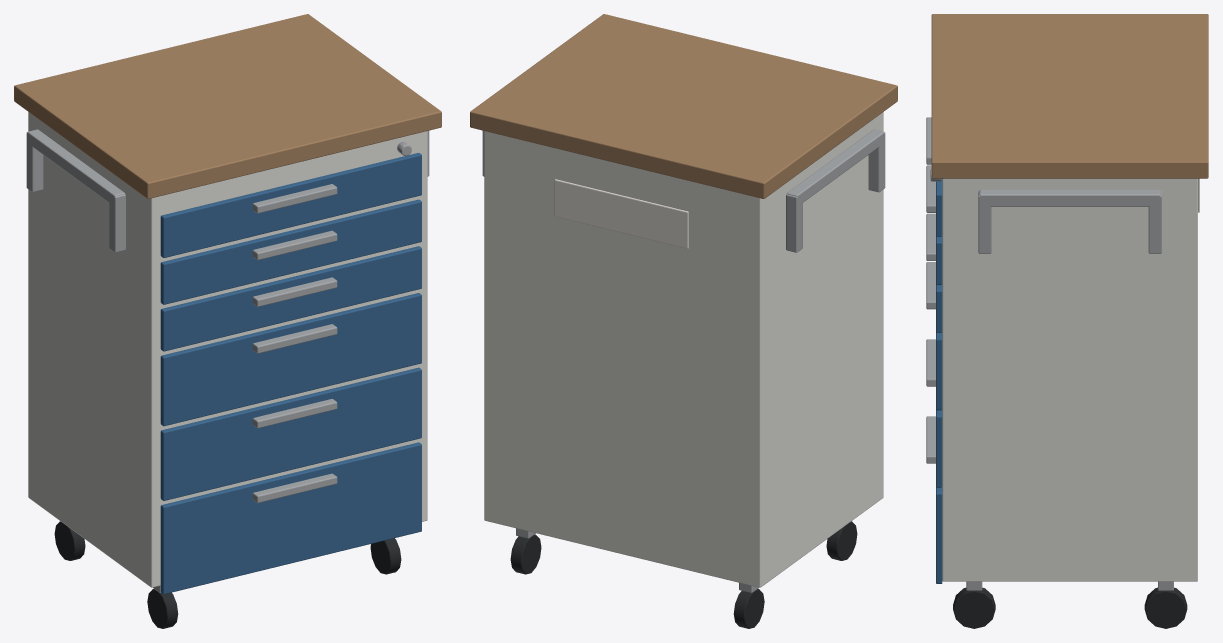
File: PROP_Cart_Medication.glb
3 renders of one model, left to right at view 1: azimuth 30°, elevation 25°; view 2: azimuth 150°, elevation 25°; view 3: azimuth 270°, elevation 25°, orthographic. The views are drawn at different scales.
Parts seen in each view (by area): view 1: PROP_Cart_Medication_Mesh; view 2: PROP_Cart_Medication_Mesh; view 3: PROP_Cart_Medication_Mesh.
Boxes of the visible parts, box(x1,y1,x2,y2) form: PROP_Cart_Medication_Mesh: box(14, 14, 441, 628); PROP_Cart_Medication_Mesh: box(470, 14, 897, 628); PROP_Cart_Medication_Mesh: box(926, 14, 1208, 628).
Size of what is drawn, in the model's own units: 0.705 by 1 by 0.53.
